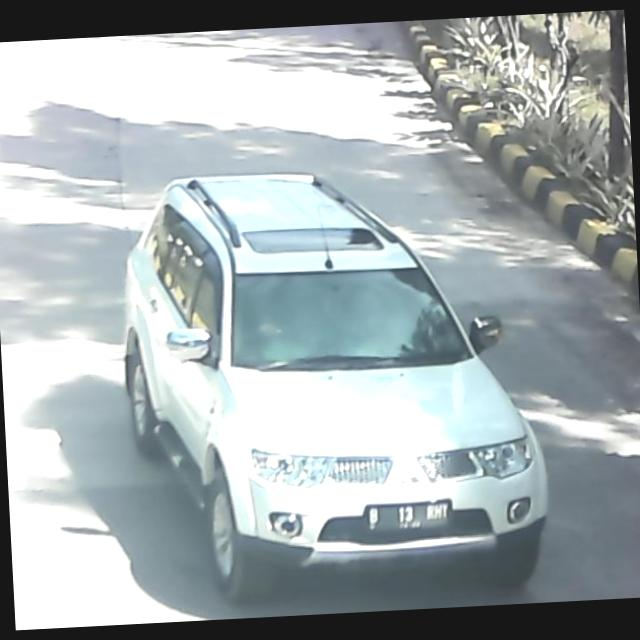plate: (366, 500, 458, 535)
